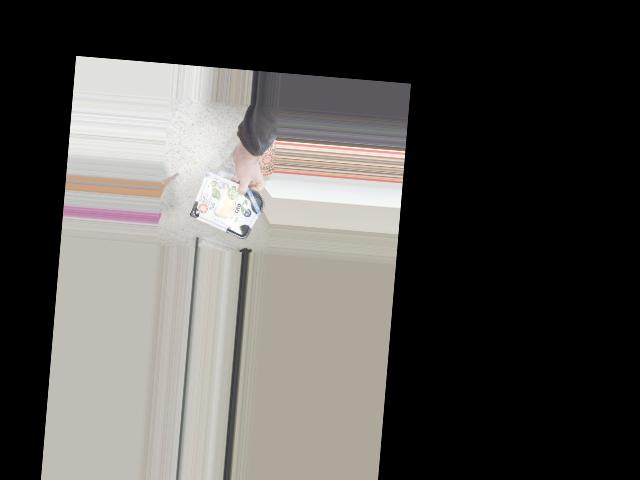cheese: (193, 181, 260, 233)
